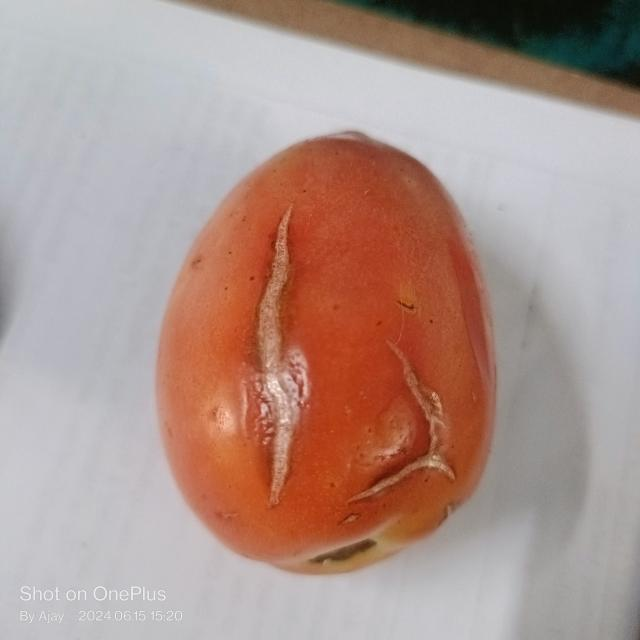tomato_cracking: (257, 201, 320, 514), (353, 344, 456, 501)
